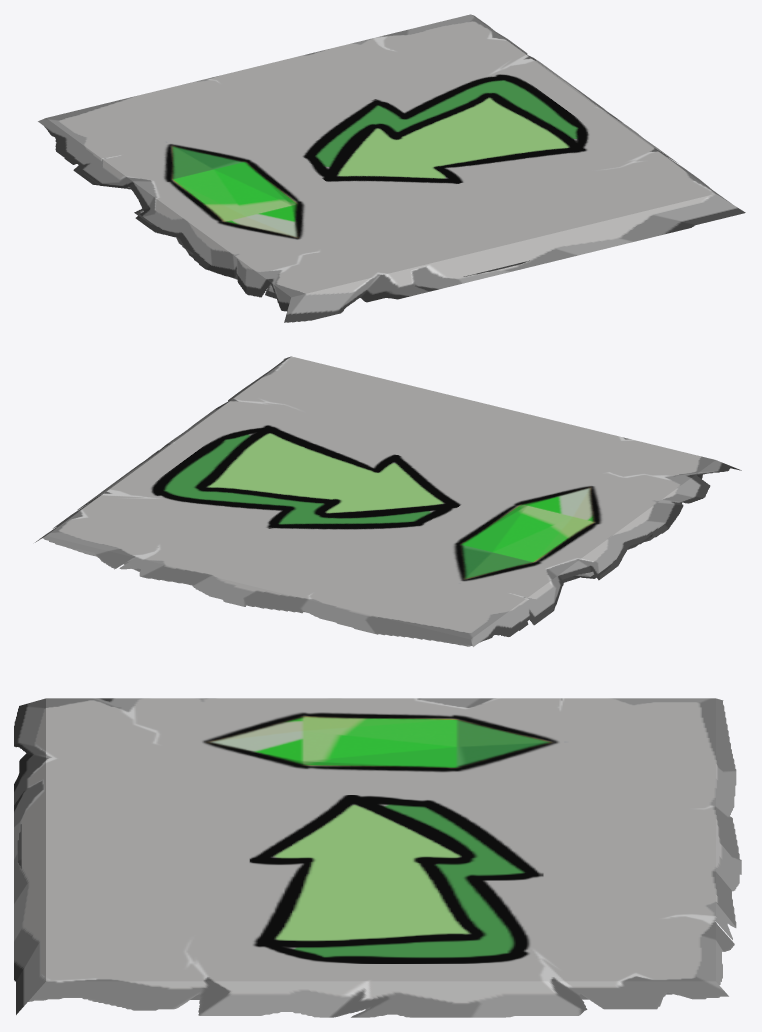
Rendered from bankDepositorActive.obj.
3 views of the same model, one above another, from view 1: azimuth 30°, elevation 25°; view 2: azimuth 150°, elevation 25°; view 3: azimuth 270°, elevation 25° (orthographic). The views are drawn at different scales.
Parts seen in each view (by area): view 1: Cube_Cube.001; view 2: Cube_Cube.001; view 3: Cube_Cube.001.
Boxes of the visible parts, <box> form: Cube_Cube.001: <box>38,14,745,322</box>; Cube_Cube.001: <box>35,356,741,646</box>; Cube_Cube.001: <box>14,698,741,1017</box>.
Size of the model in its own units: 20 by 0.6826 by 20.
Materials: 1 (1 with a texture image).
